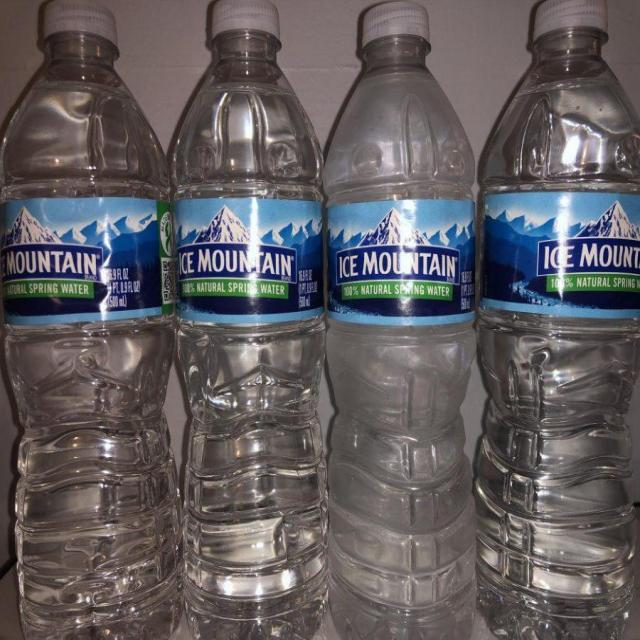bottle: (164, 0, 324, 603), (477, 0, 632, 617), (318, 0, 474, 613), (0, 154, 175, 632)
